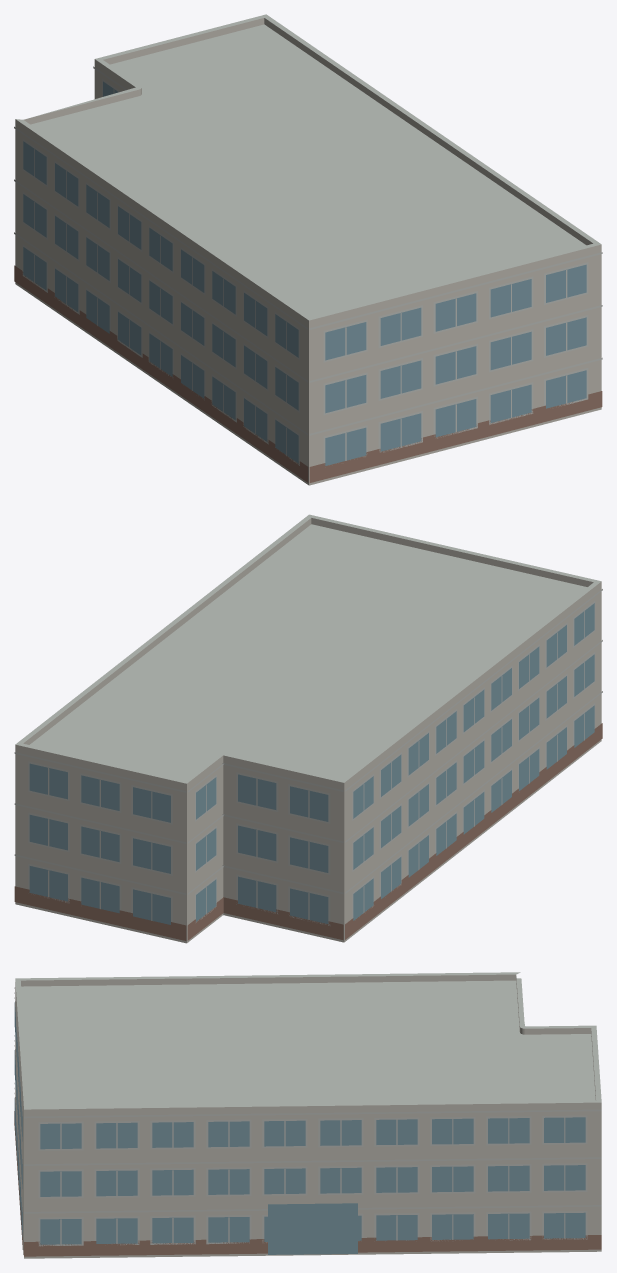
Rendered from public-39368efb-6e11-4db9-a8d3-e30e6e475025.glb.
3 views of the same model, one above another, from view 1: azimuth 30°, elevation 25°; view 2: azimuth 150°, elevation 25°; view 3: azimuth 270°, elevation 25° (orthographic). The views are drawn at different scales.
Visible parts, largest first — view 1: public-39368efb-6e11-4db9-a8d3-e30e6e475025; view 2: public-39368efb-6e11-4db9-a8d3-e30e6e475025; view 3: public-39368efb-6e11-4db9-a8d3-e30e6e475025.
Part boxes in pixels (x1,y1,x2,y2): public-39368efb-6e11-4db9-a8d3-e30e6e475025: (14,14,602,485); public-39368efb-6e11-4db9-a8d3-e30e6e475025: (14,514,602,943); public-39368efb-6e11-4db9-a8d3-e30e6e475025: (14,972,601,1258).
Bounding box in the file's own units: 18.96 × 9.15 × 32.75.
